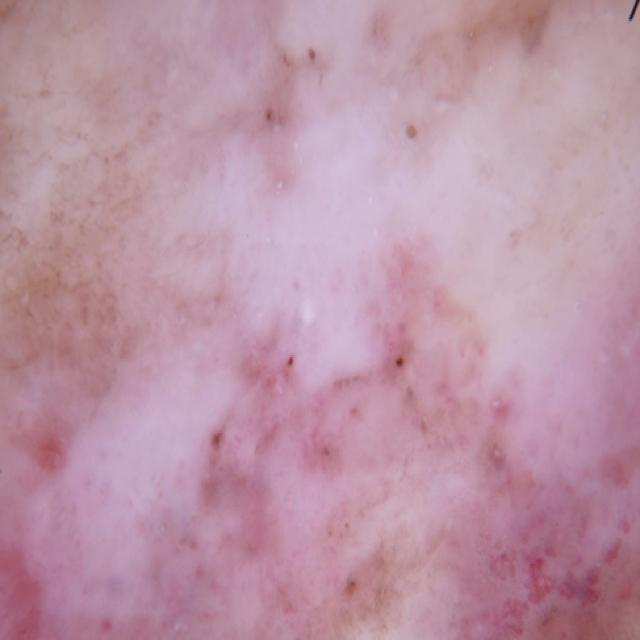Carcinoma: (0, 201, 640, 640)
